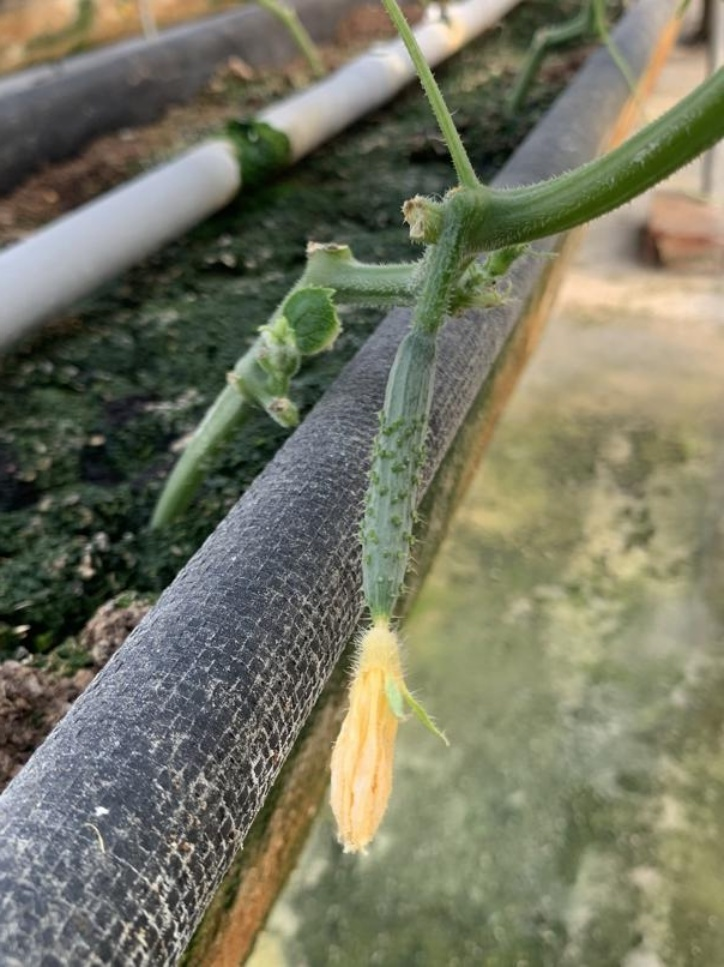bear: (308, 320, 466, 869)
